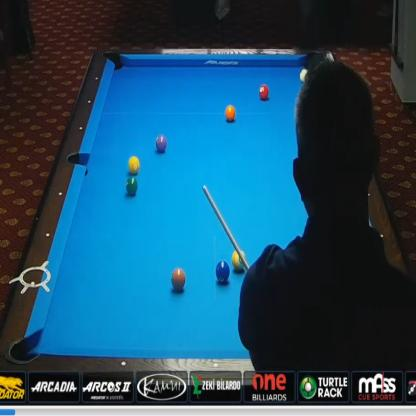Ball: (215, 260, 230, 284), (171, 268, 186, 292), (231, 249, 246, 272), (125, 177, 138, 195), (156, 134, 167, 153), (128, 156, 140, 173), (225, 105, 236, 122), (259, 84, 269, 101), (299, 68, 308, 83)
